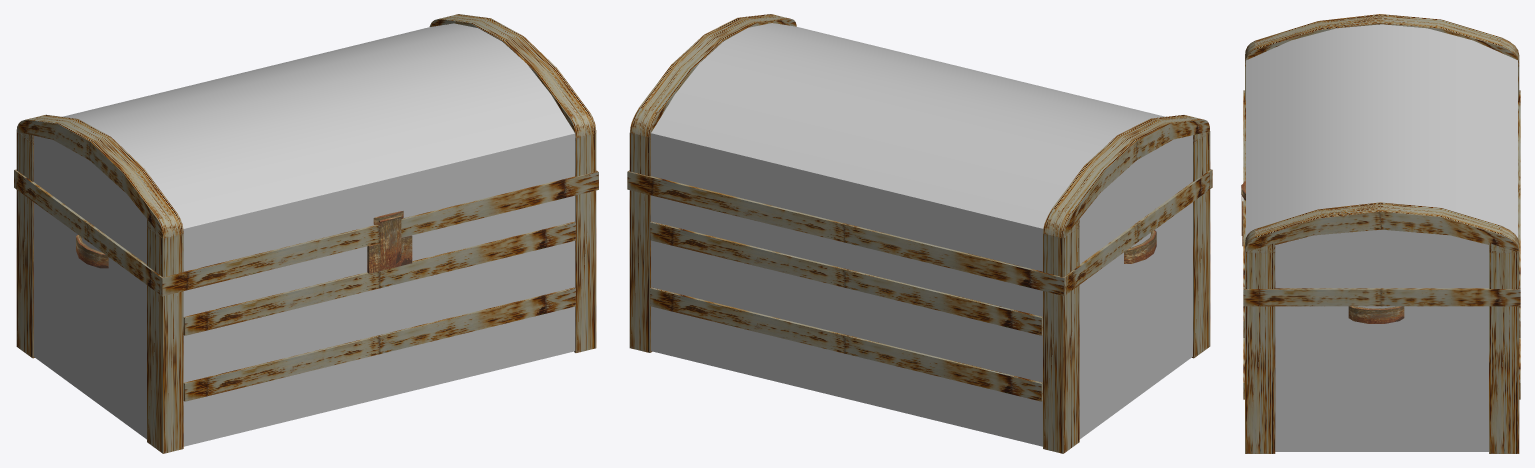
File: Cave_Asset.fbx
3 renders of one model, left to right at view 1: azimuth 30°, elevation 25°; view 2: azimuth 150°, elevation 25°; view 3: azimuth 270°, elevation 25°, orthographic. The views are drawn at different scales.
Parts seen in each view (by area): view 1: Box001, Box006, Box004, Box003, Box012, Box019, Box013, Box020, Box014, Box023, Box022, Box017; view 2: Box001, Box006, Box009, Box008, Box014, Box019, Box015, Box020, Box012, Box017; view 3: Box001, Box020, Box006, Box013, Box015, Box019, Box016.
Part boxes in pixels (box(x1,y1,x2,y2)): Box001: box(33, 23, 575, 446); Box006: box(14, 169, 598, 296); Box004: box(183, 287, 575, 401); Box003: box(183, 221, 575, 335); Box012: box(147, 227, 183, 453); Box019: box(16, 114, 183, 238); Box013: box(574, 133, 596, 352); Box020: box(429, 14, 596, 140); Box014: box(16, 132, 34, 358); Box023: box(380, 217, 401, 266); Box022: box(367, 235, 412, 273); Box017: box(76, 235, 108, 268); Box001: box(651, 23, 1192, 446); Box006: box(627, 169, 1212, 295); Box009: box(650, 287, 1042, 401); Box008: box(650, 221, 1042, 335); Box014: box(1043, 227, 1079, 453); Box019: box(1043, 115, 1209, 238); Box015: box(629, 133, 652, 352); Box020: box(630, 14, 796, 140); Box012: box(1192, 131, 1210, 358); Box017: box(1124, 230, 1156, 263); Box001: box(1246, 24, 1517, 451); Box020: box(1245, 202, 1519, 252); Box006: box(1243, 90, 1520, 306); Box013: box(1245, 252, 1275, 453); Box015: box(1489, 252, 1519, 453); Box019: box(1245, 14, 1519, 66); Box016: box(1348, 306, 1404, 323).
Bounding box in the file's own units: 64.33 × 35.11 × 36.74.
